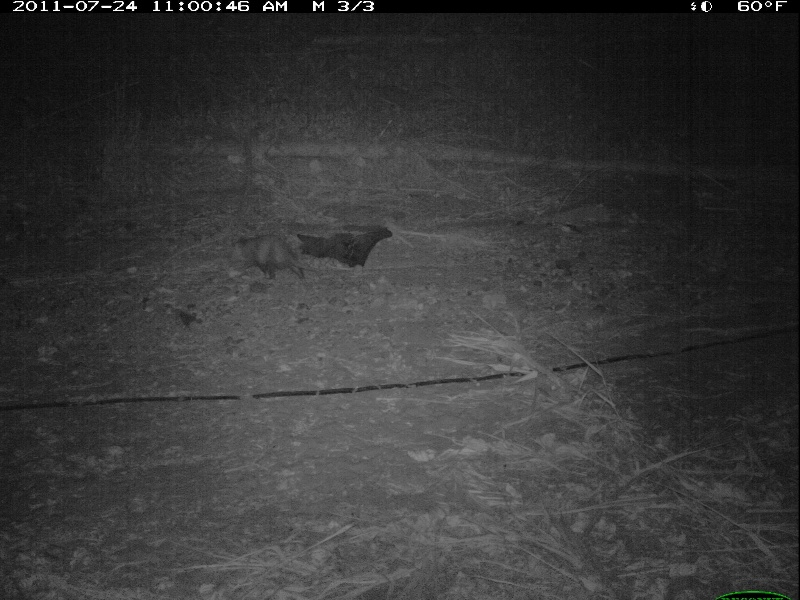opossum: (224, 233, 319, 282)
